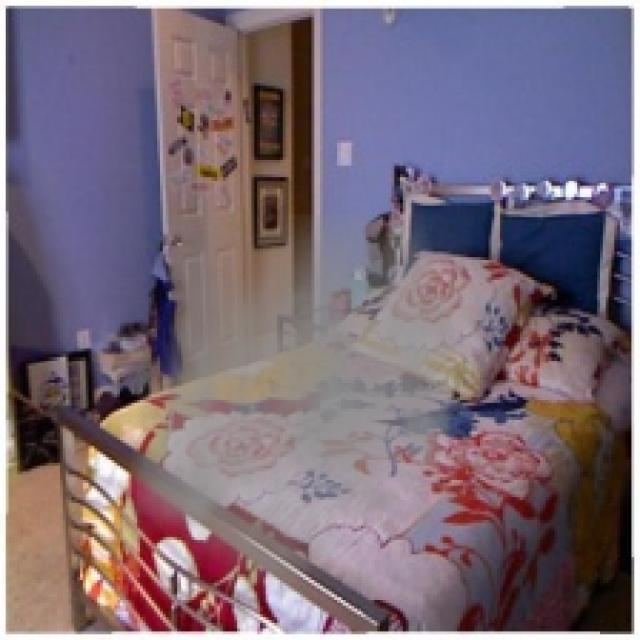Smoke: (132, 214, 474, 603)
